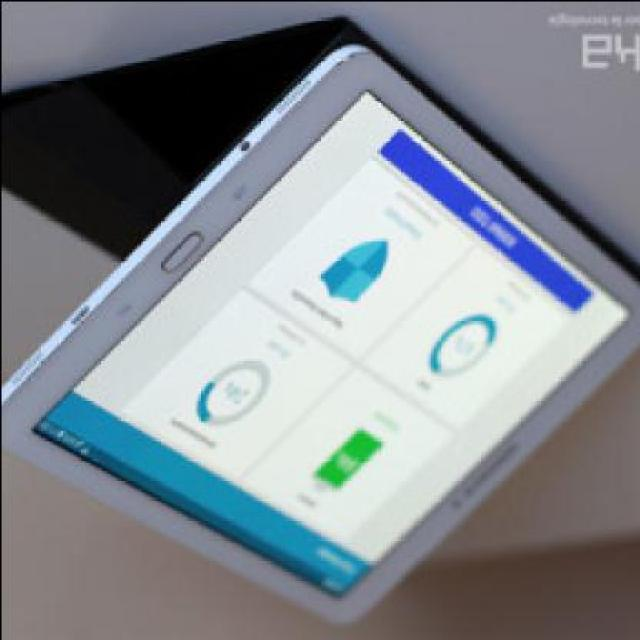tablet: (9, 10, 628, 609)
